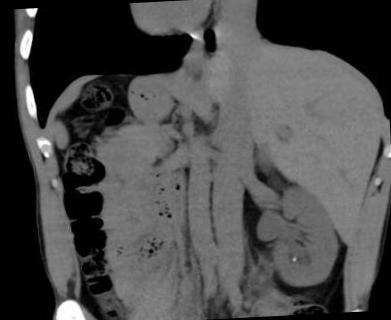Tas_Var: (290, 255, 298, 262)
